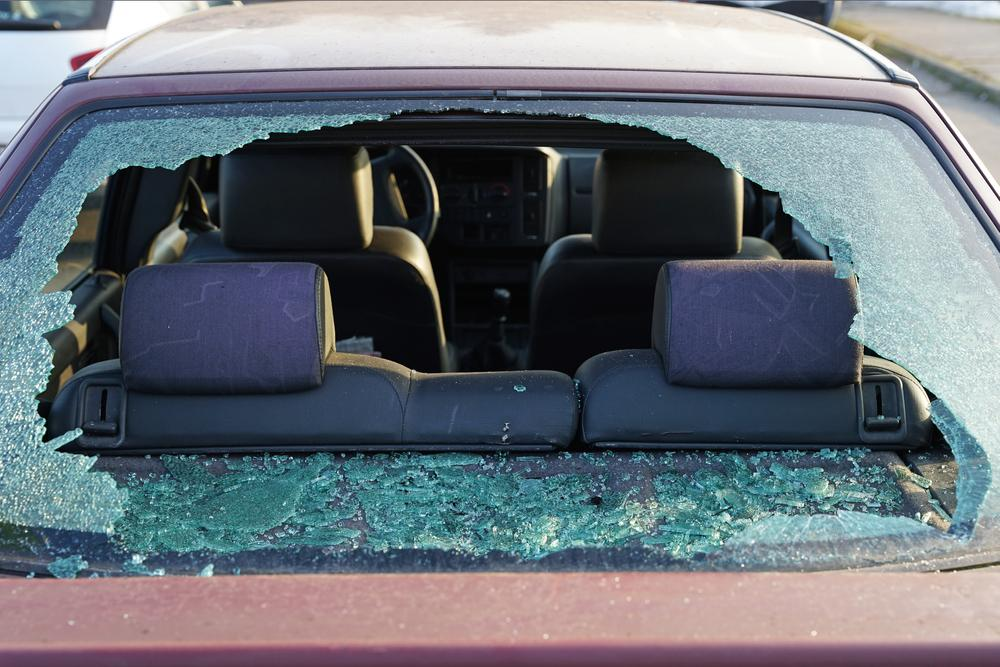glass shatter: (0, 97, 1000, 576)
